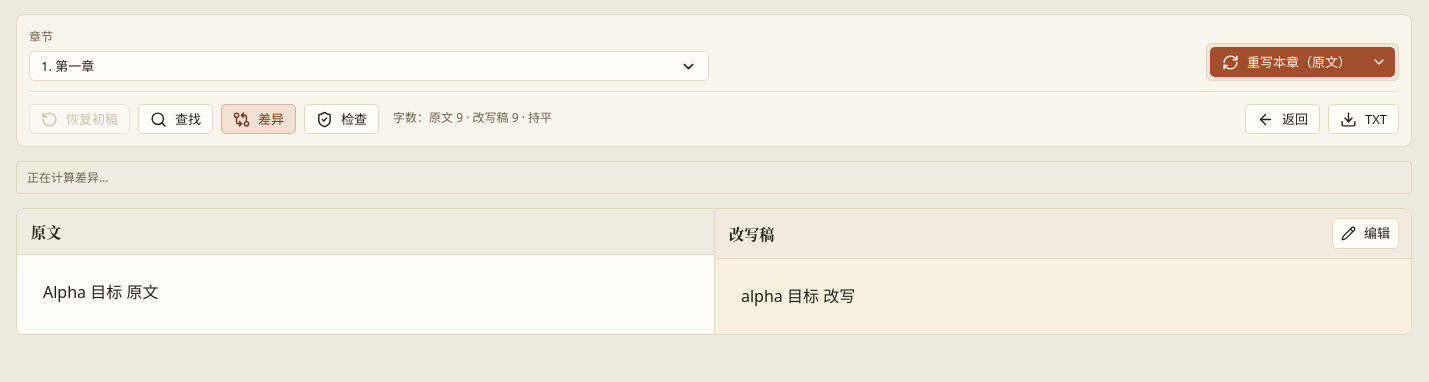
Test case: CompareView › saves an edited rewrite and recalculates visible text
The width and height of the screenshot is (1429, 382).
Click the button "编辑".
click(1366, 234)  # box [1332,218,1399,249]
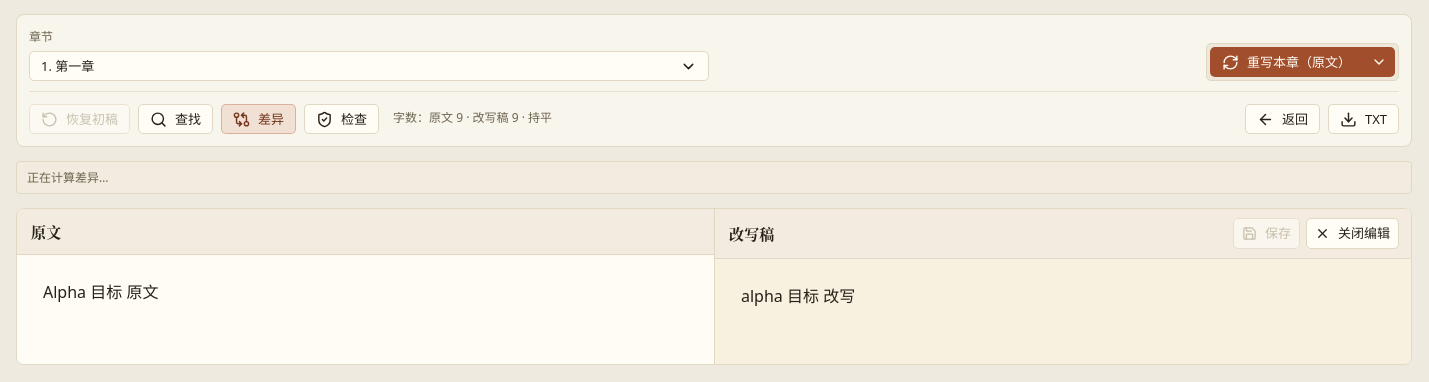
Replace the text in the text box named "编辑改写稿正文" with "人工修改后的目标正文" at x=1063, y=312, box [715,259,1411,364]
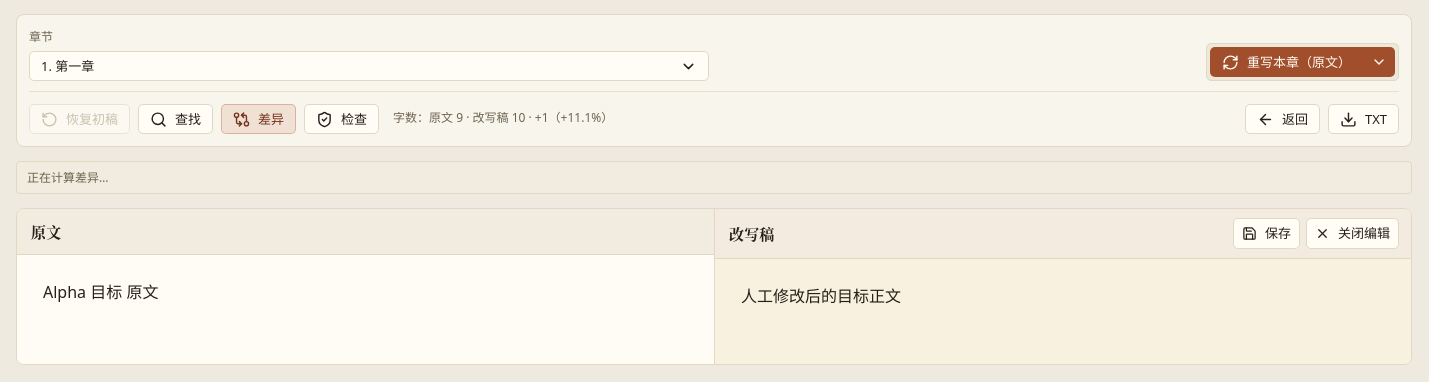
Click the button "保存".
click(1266, 234)  # box [1233,218,1300,249]
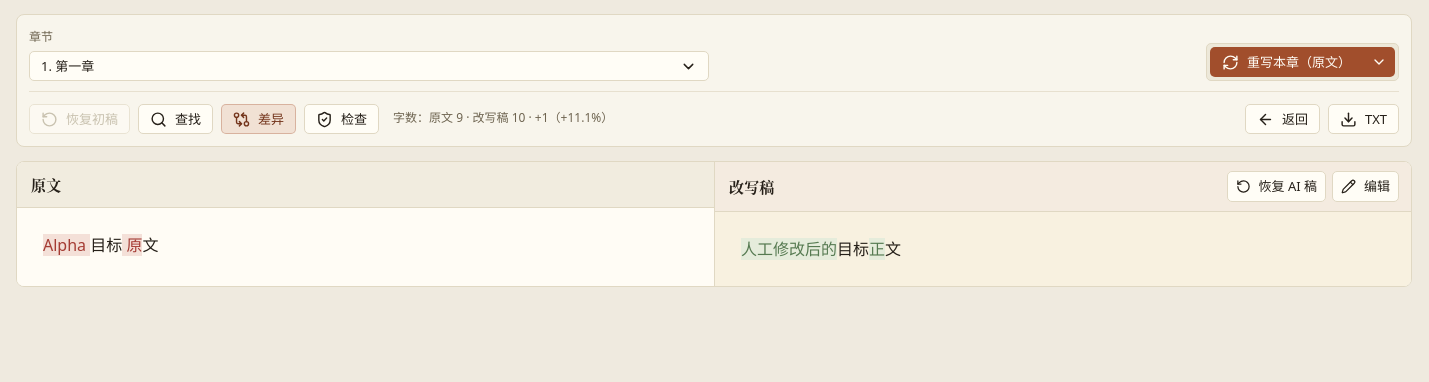
Check: the element named "改写稿内容" reads "人工修改后的目标正文", box [741,238,901,260]
Check: the button "恢复 AI 稿" is shown, box [1226,171,1326,202]
